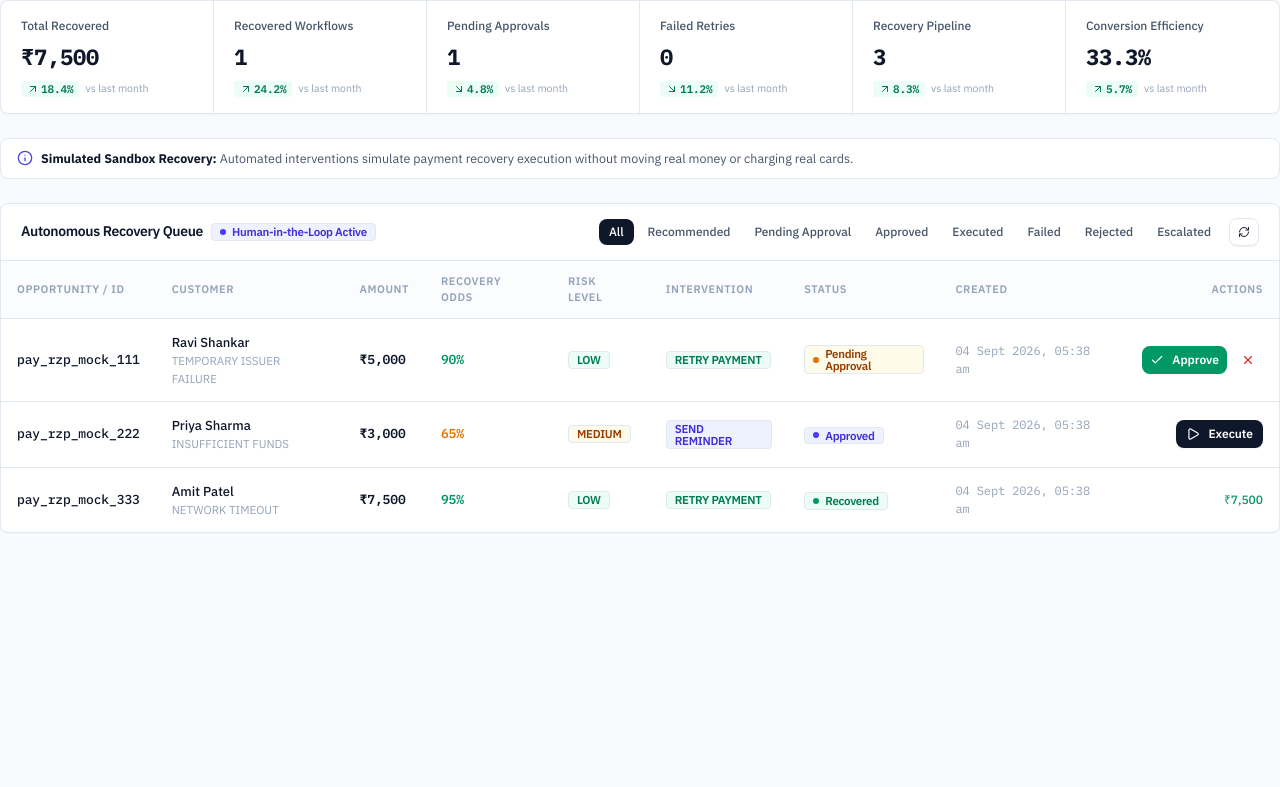
it: Recovery Dashboard UI Component (Milestone 6 Step 10B Hardened) › opens recovery detail drawer when a row is clicked
Click the text "Ravi Shankar": (211, 342) [172,334,250,351]
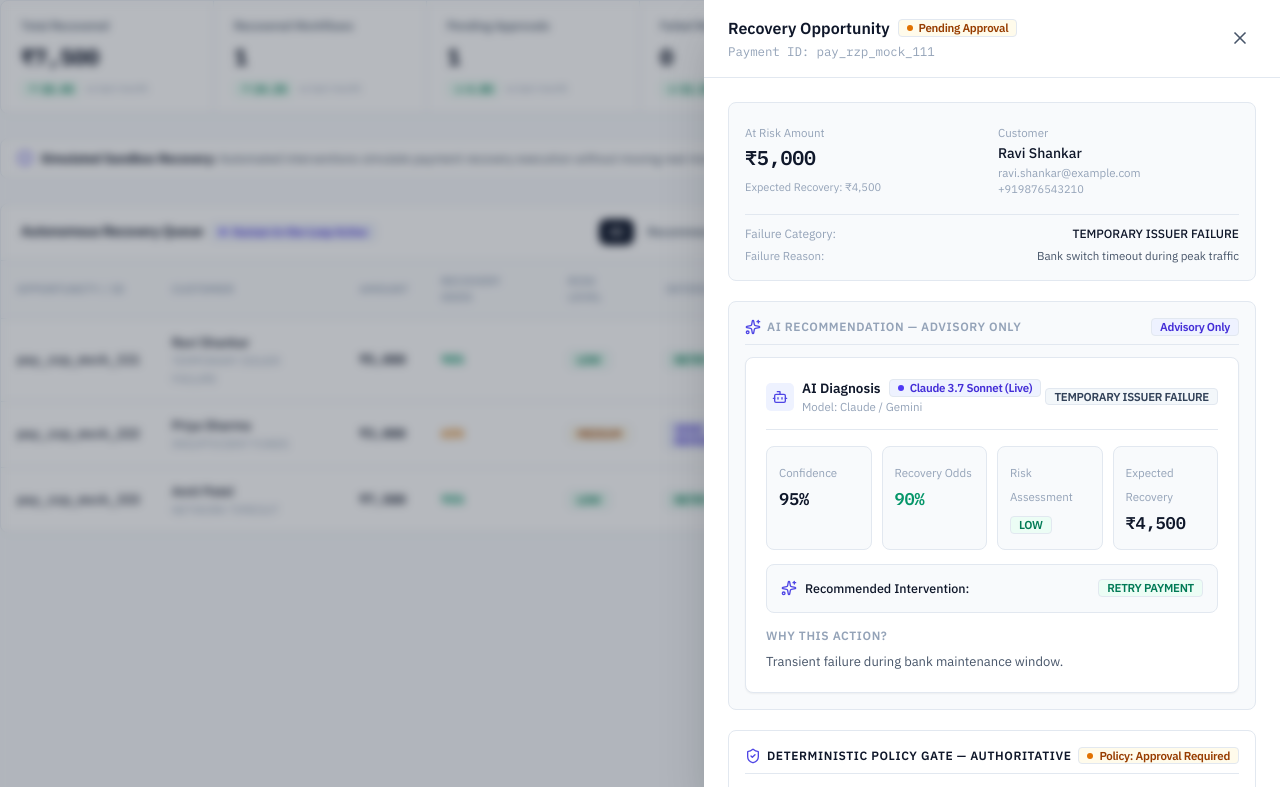
Expected: the heading "Recovery Opportunity" is shown, [728,16,890,40]
